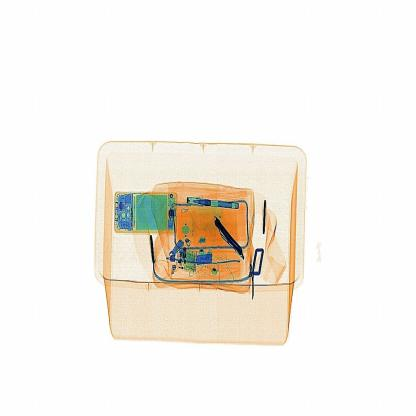knife: (211, 212, 247, 258)
